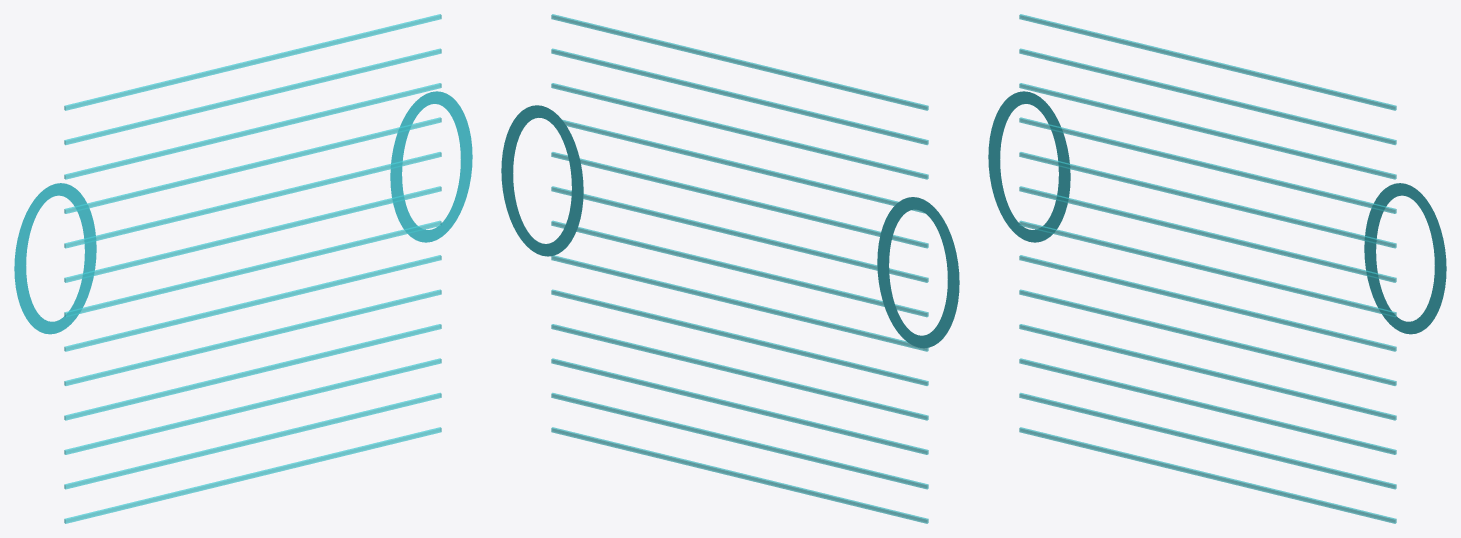
File: hologram.glb
The picture shows the model from 3 angles, left to right: view 1: azimuth 30°, elevation 25°; view 2: azimuth 150°, elevation 25°; view 3: azimuth 330°, elevation 25°; orthographic projection.
Parts seen in each view (by area): view 1: holographic scan line (×13), temple circuit (×2); view 2: holographic scan line (×13), temple circuit (×2); view 3: holographic scan line (×13), temple circuit (×2).
Part boxes in pixels (x1=…): holographic scan line (×13): x1=64, y1=14, x2=441, y2=523; temple circuit (×2): x1=14, y1=91, x2=472, y2=334; holographic scan line (×13): x1=551, y1=14, x2=928, y2=523; temple circuit (×2): x1=501, y1=105, x2=959, y2=348; holographic scan line (×13): x1=1019, y1=14, x2=1396, y2=523; temple circuit (×2): x1=988, y1=91, x2=1446, y2=334.
Bounding box in the file's own units: 1.95 × 1.7 × 0.075.
